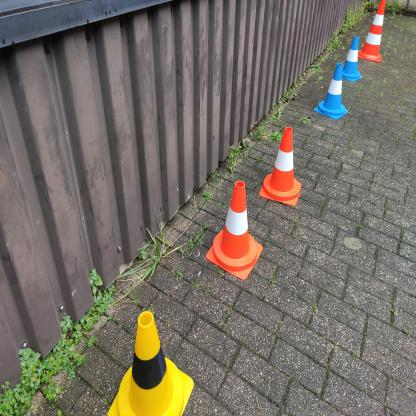Cones_big: (358, 0, 388, 64)
Cones_small_blue: (309, 50, 352, 127), (341, 30, 366, 86)
Cones_small_orange: (200, 166, 264, 282), (253, 126, 306, 211)
Cones_small_yellow: (110, 306, 196, 416)
